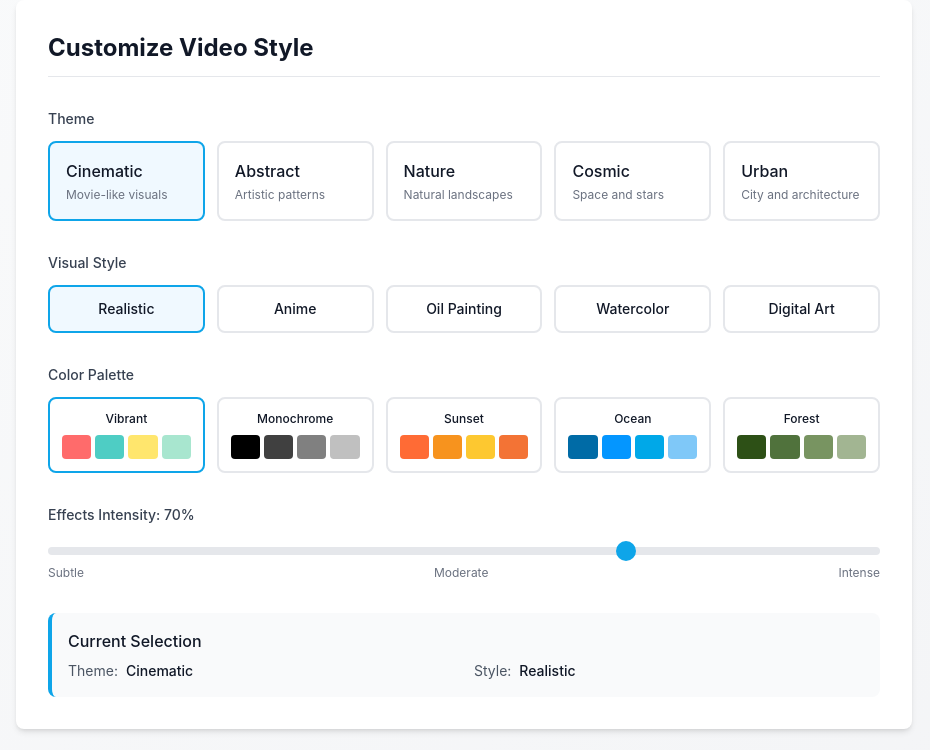
it: StyleCustomizer › updates intensity display when slider changes
The image size is (930, 750).
Set the slider with test id "intensity-slider" to "90" at (790, 551), box [48,547,880,555]
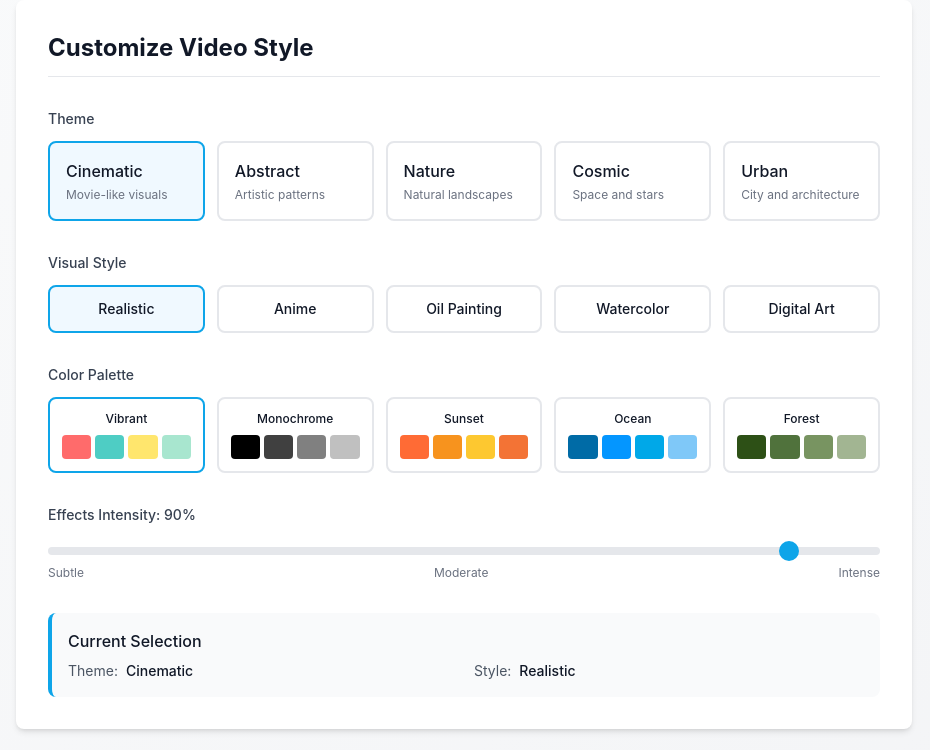
expect the text "Effects Intensity: 90%" is shown: met, box [48,506,196,523]
